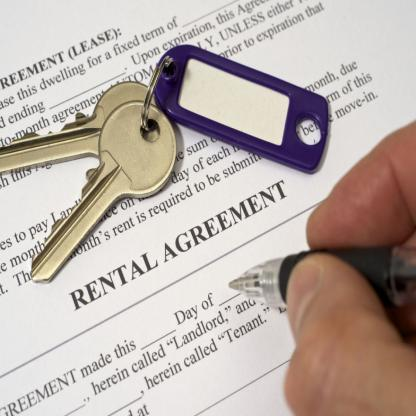keys: (0, 79, 176, 288)
